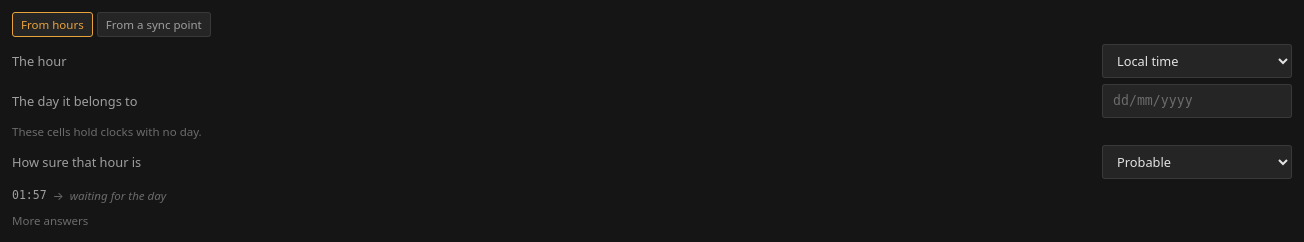
Test: the hours form, as one mode of the pass › offers the other road when the sheet has an offset column
Step 1. Click the button "From a sync point" → (154, 25), box [97,12,211,37]
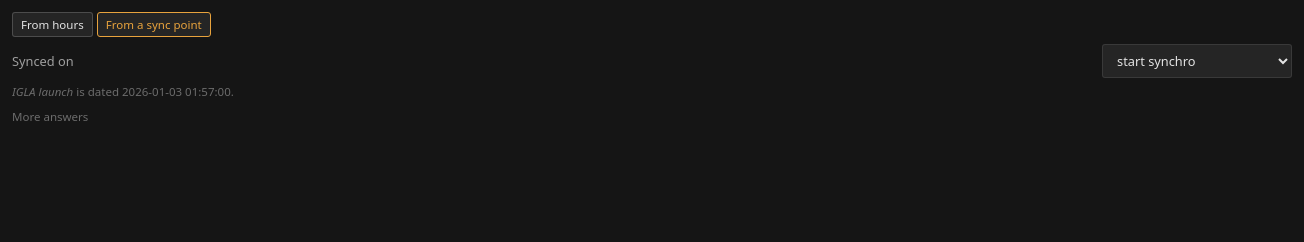
Now the text "IGLA launch" is shown, box [12,84,73,99]
Now the text "is dated 2026-01-03 01:57:00" is shown, box [73,84,234,99]
